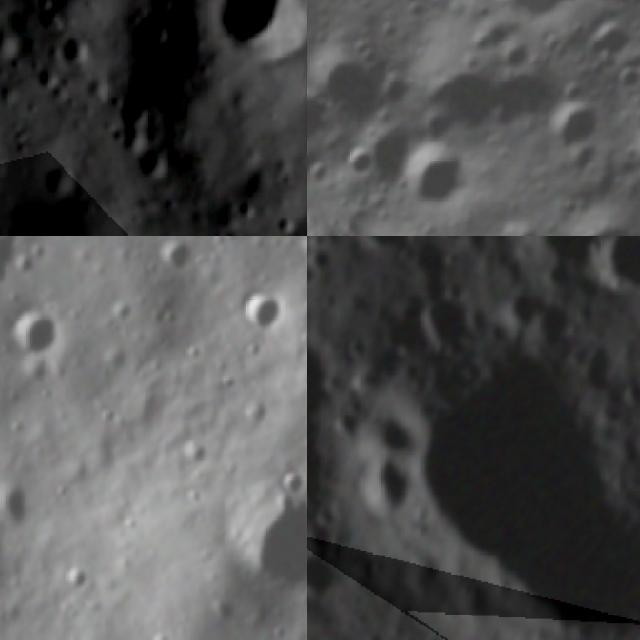crater: (374, 335, 640, 640), (463, 36, 587, 159), (402, 41, 512, 150), (307, 22, 401, 125), (396, 126, 490, 228), (218, 493, 307, 599), (536, 74, 614, 163), (465, 0, 602, 50), (352, 111, 433, 195), (216, 0, 307, 69), (539, 180, 640, 236), (416, 280, 486, 356), (307, 72, 358, 173), (579, 236, 640, 305), (349, 454, 410, 522), (461, 6, 526, 69), (580, 8, 640, 74), (359, 398, 420, 458), (307, 317, 336, 439), (3, 310, 63, 362), (492, 277, 543, 329), (235, 288, 291, 334), (524, 300, 572, 350), (339, 138, 383, 188), (106, 94, 166, 128), (39, 152, 84, 192), (0, 481, 34, 532), (405, 236, 449, 274), (307, 553, 341, 602), (58, 558, 96, 600), (154, 236, 194, 274), (609, 53, 640, 100), (0, 236, 24, 295), (619, 115, 640, 182), (58, 30, 92, 71), (138, 15, 174, 52), (372, 9, 407, 46), (138, 142, 172, 179), (490, 215, 549, 236), (450, 353, 489, 384), (573, 0, 640, 18), (274, 465, 307, 500), (348, 236, 409, 254), (146, 0, 182, 14), (261, 226, 304, 236), (362, 628, 390, 640)
